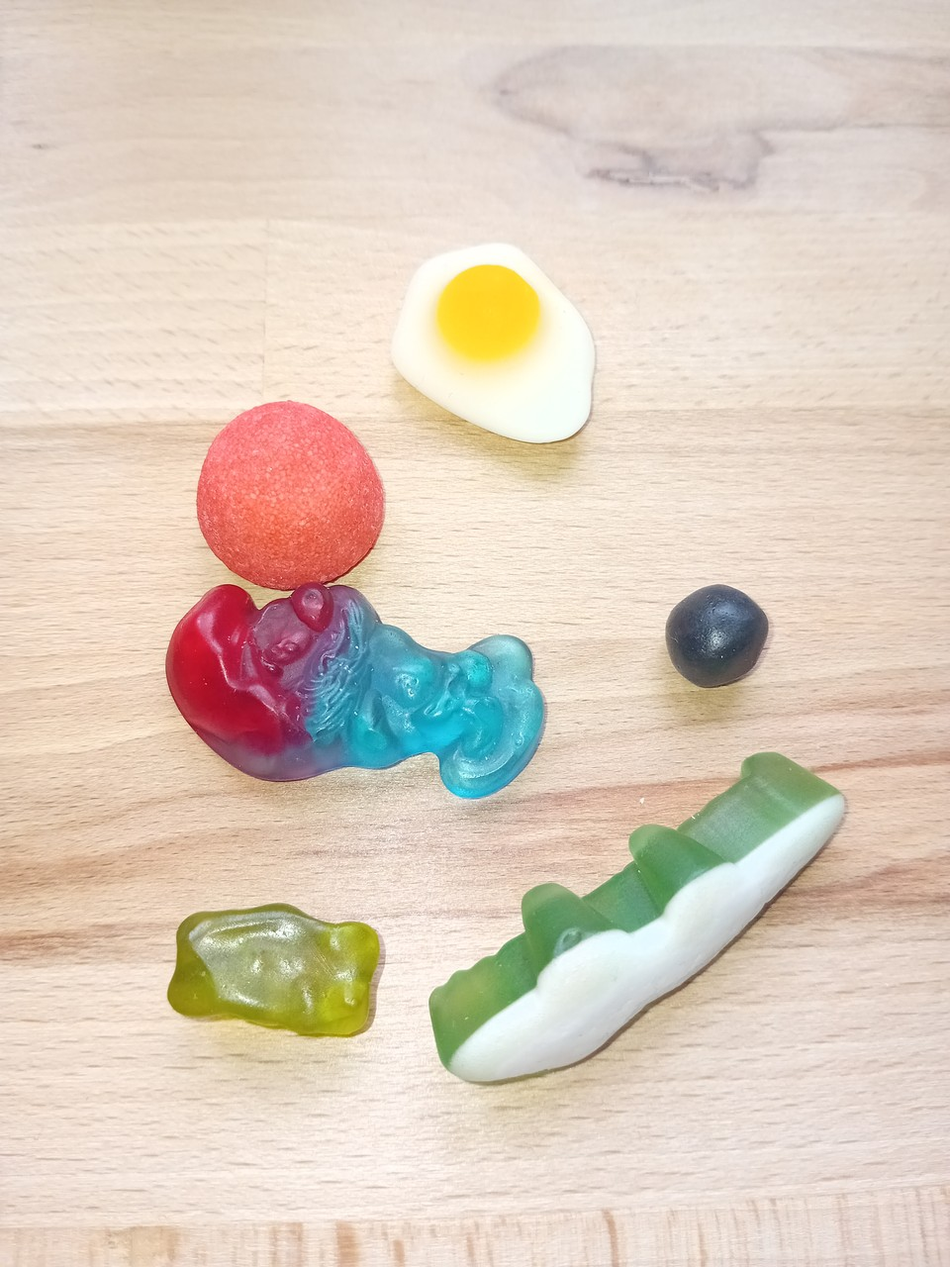crocodile_vert: (419, 745, 849, 1094)
dragibus_noir: (659, 578, 774, 689)
oeuf_oeuf: (389, 238, 601, 452)
ourson_vert: (164, 900, 398, 1047)
schtroumpf_bleu-rouge: (155, 580, 558, 812)
tagada_fraise: (185, 396, 394, 592)
